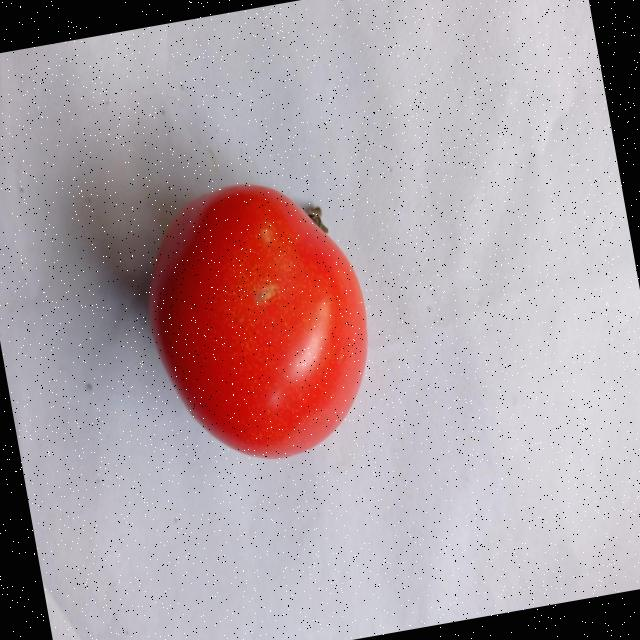Tomato: (128, 163, 390, 478)
